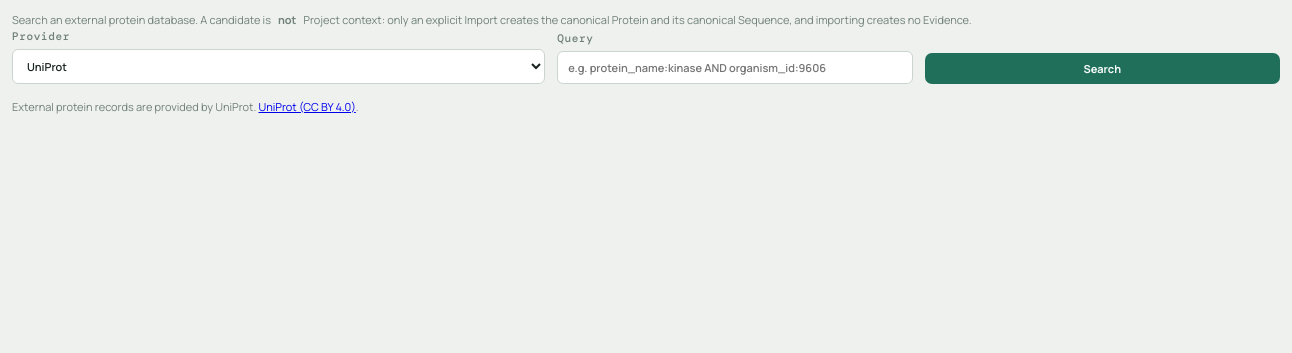
ProteinDiscoveryView › surfaces a typed import failure (a changed snapshot conflict) without inventing context
Type "kinase" into the field named "Protein search query".
click(735, 67); type("kinase")  # box [557, 51, 912, 84]
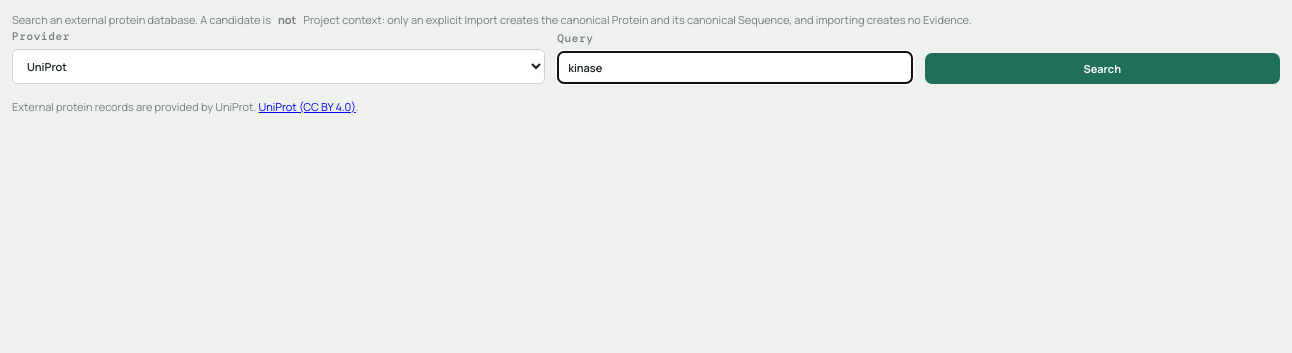
Click the button "Search".
click(1102, 68)  # box [925, 53, 1280, 84]
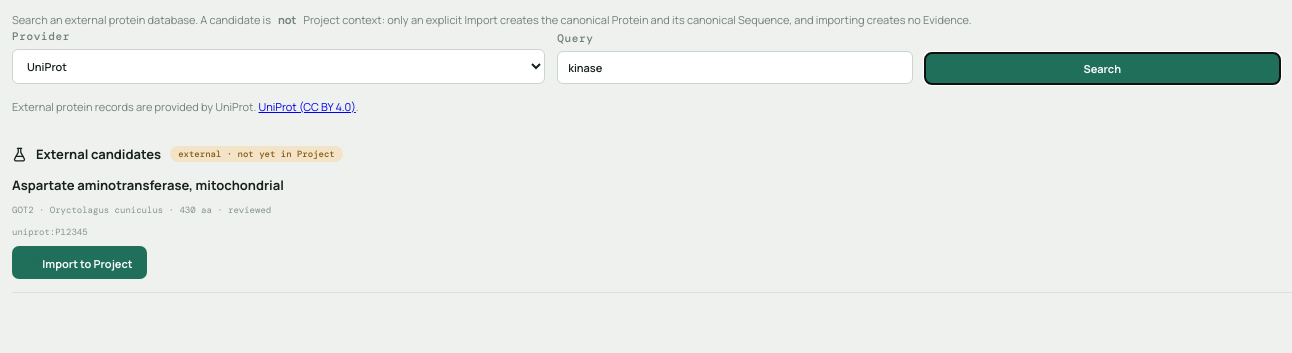
Click the button "Import to Project".
click(79, 263)  # box [12, 246, 147, 279]
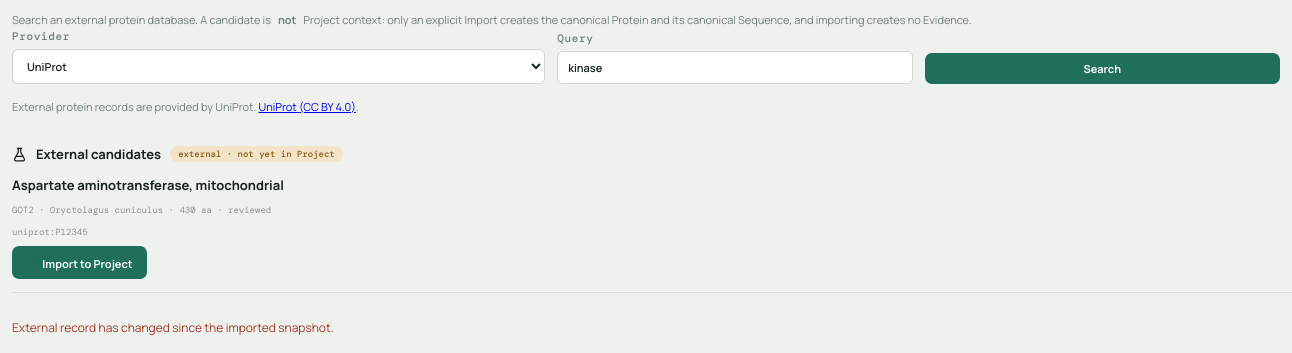
Expected: the text "External record has changed since the imported snapshot." is shown, [12, 319, 334, 336]
